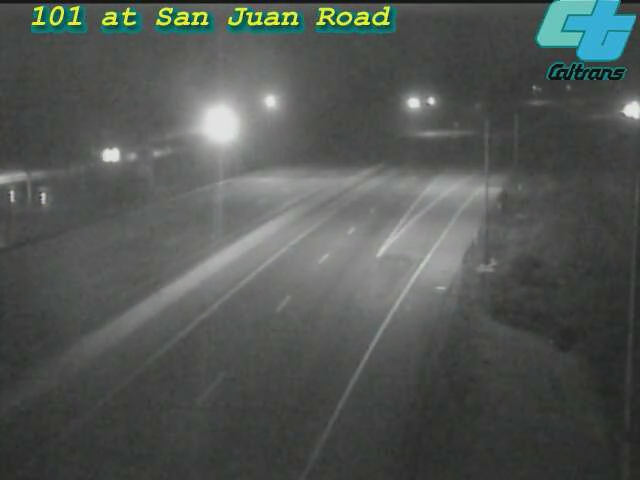vehicle: (605, 86, 640, 136)
